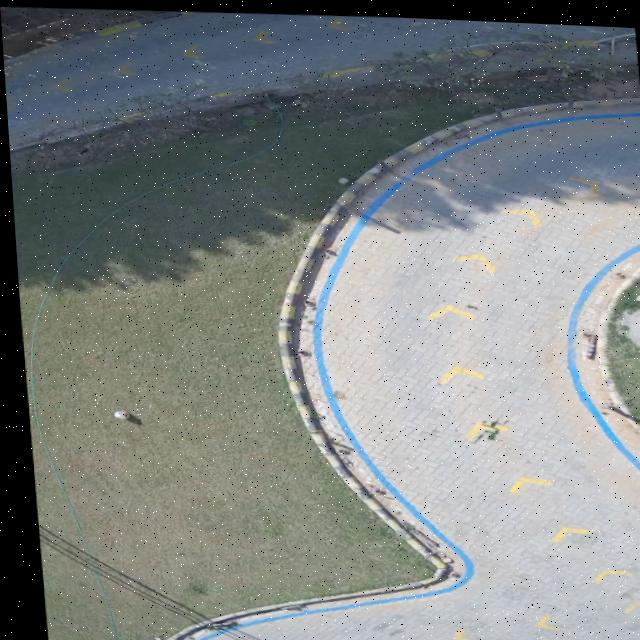No Car: (0, 6, 640, 640)
